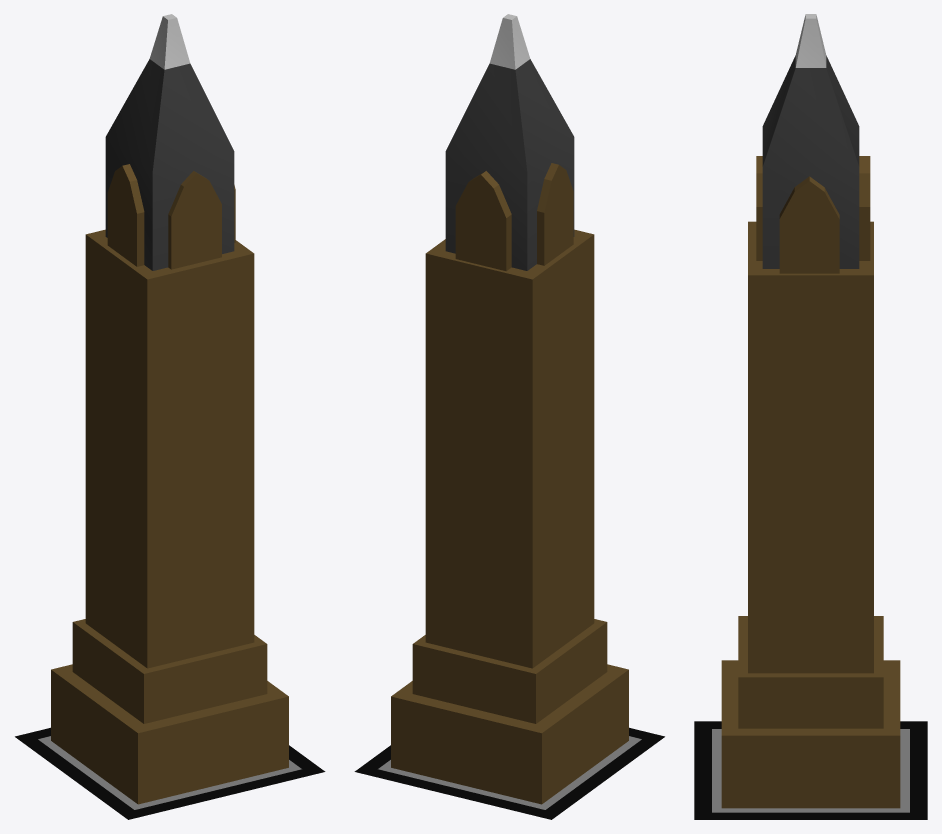
File: bldg8.obj
3 renders of one model, left to right at view 1: azimuth 30°, elevation 25°; view 2: azimuth 150°, elevation 25°; view 3: azimuth 270°, elevation 25°, orthographic. The views are drawn at different scales.
Visible parts, largest first — view 1: polySurface1; view 2: polySurface1; view 3: polySurface1.
Boxes of the visible parts, <box> form: polySurface1: <box>15,14,325,819</box>; polySurface1: <box>354,14,664,819</box>; polySurface1: <box>694,14,927,819</box>.
Bounding box in the file's own units: 10 × 35.71 × 10.
